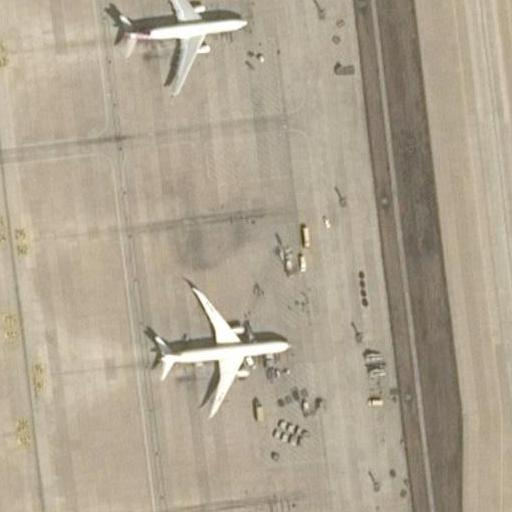Aircraft: (152, 262, 294, 410), (102, 0, 248, 89)
